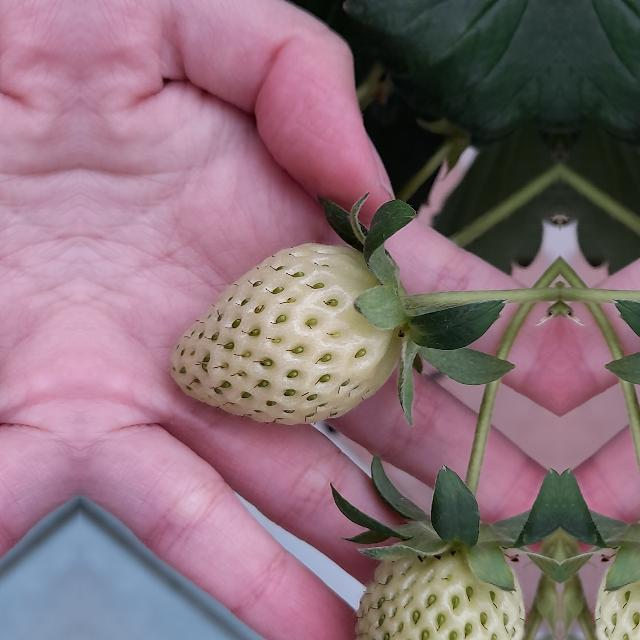Health_25: (170, 242, 402, 424), (348, 518, 528, 640), (592, 518, 640, 639)
